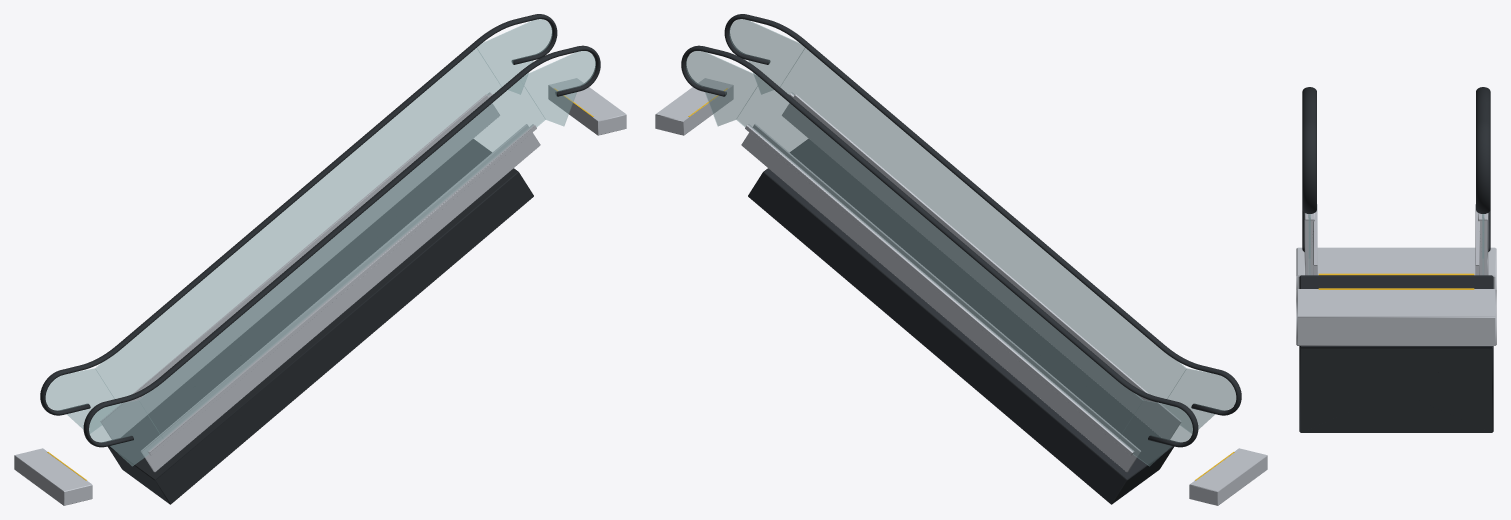
File: SM_MallEscalatorShell.fbx
The picture shows the model from 3 angles, left to right: view 1: azimuth 30°, elevation 25°; view 2: azimuth 150°, elevation 25°; view 3: azimuth 270°, elevation 25°; orthographic projection. The views are drawn at different scales.
Visible parts, largest first — view 1: SM_MallEscalatorShell; view 2: SM_MallEscalatorShell; view 3: SM_MallEscalatorShell.
Boxes of the visible parts, box(x1,y1,x2,y2) form: SM_MallEscalatorShell: box(14, 14, 626, 505); SM_MallEscalatorShell: box(655, 14, 1267, 505); SM_MallEscalatorShell: box(1296, 87, 1496, 432).
Size of the model in its own units: 884 by 136 by 534.
